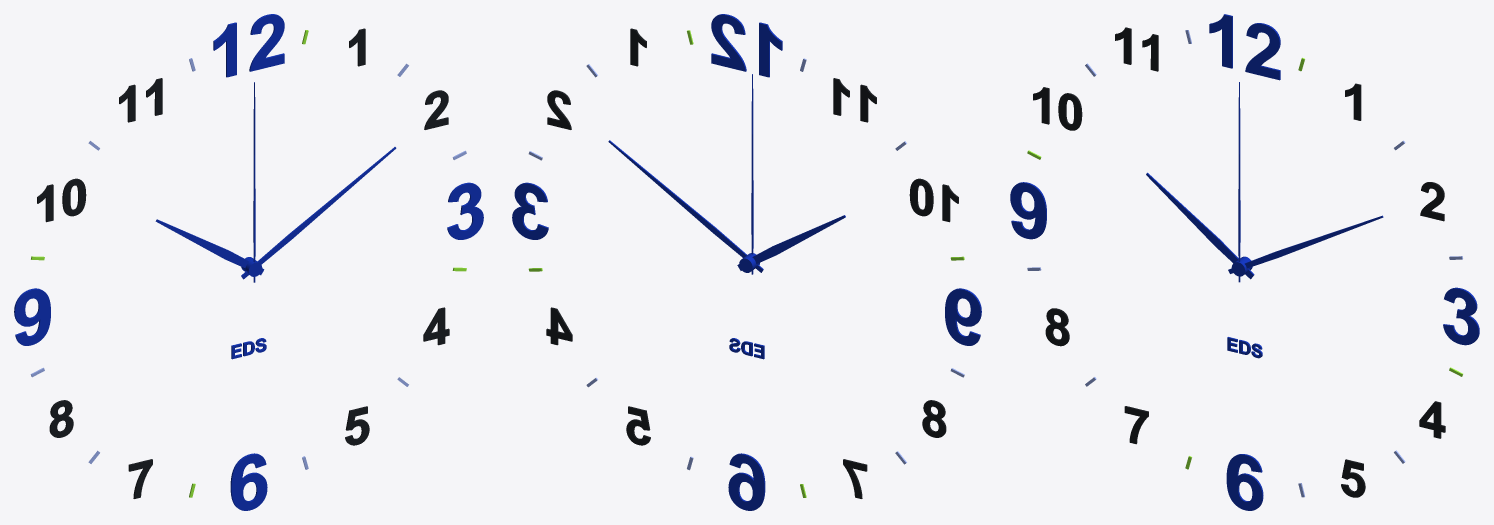
File: wallClock-3.glb
The picture shows the model from 3 angles, left to right: view 1: azimuth 30°, elevation 25°; view 2: azimuth 150°, elevation 25°; view 3: azimuth 330°, elevation 25°; orthographic projection.
Parts seen in each view (by area): view 1: Clock_EDS_blue, Clock_graphite, Clock_minute_hand_blade, Clock_hour_hand_blade; view 2: Clock_EDS_blue, Clock_graphite, Clock_minute_hand_blade, Clock_hour_hand_blade; view 3: Clock_EDS_blue, Clock_graphite, Clock_hour_hand_blade, Clock_minute_hand_blade.
Boxes of the visible parts, x1,y1,x2,y2 form: Clock_EDS_blue: (14,14,483,510); Clock_graphite: (37,28,449,498); Clock_minute_hand_blade: (241,147,396,279); Clock_hour_hand_blade: (155,219,264,275); Clock_EDS_blue: (512,14,981,510); Clock_graphite: (546,28,958,498); Clock_minute_hand_blade: (608,140,763,272); Clock_hour_hand_blade: (737,215,845,270); Clock_EDS_blue: (1010,14,1479,510); Clock_graphite: (1033,27,1445,497); Clock_hour_hand_blade: (1146,172,1254,279); Clock_minute_hand_blade: (1228,215,1383,273).
Size of the model in its own units: 1.25 by 1.25 by 0.035.
